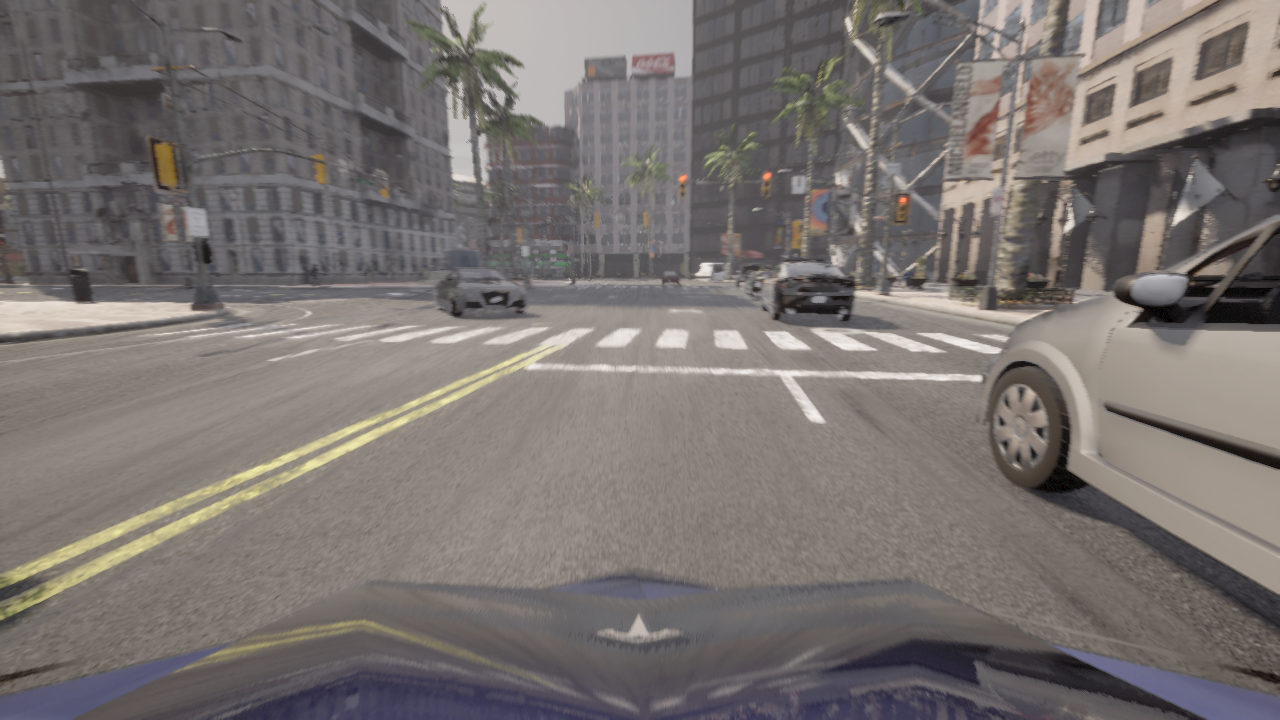cyclist: (0, 569, 1279, 719), (976, 215, 1279, 595), (761, 257, 855, 322), (434, 268, 527, 317), (745, 272, 771, 297), (695, 262, 725, 282), (735, 264, 759, 288), (660, 270, 680, 285)
pedestrian: (311, 264, 321, 285), (365, 264, 373, 285), (505, 265, 512, 276)
